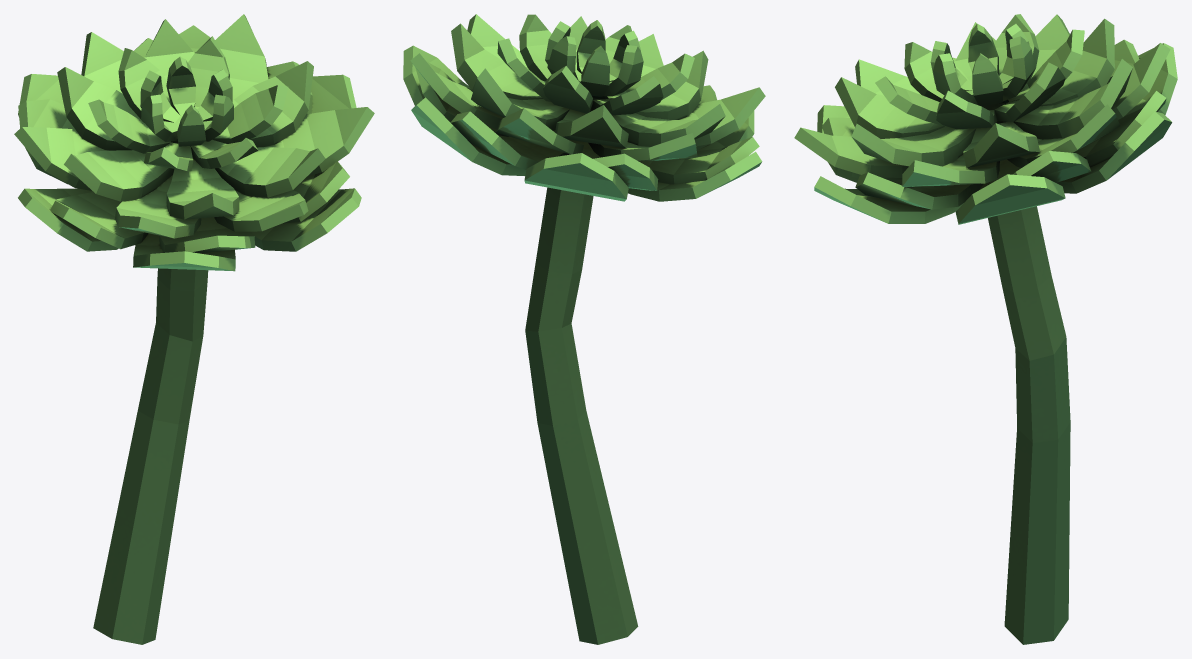
File: Aeonium_plant.glb
The picture shows the model from 3 angles, left to right: view 1: azimuth 30°, elevation 25°; view 2: azimuth 150°, elevation 25°; view 3: azimuth 270°, elevation 25°; orthographic projection. The views are drawn at different scales.
Parts seen in each view (by area): view 1: aeonium_plant; view 2: aeonium_plant; view 3: aeonium_plant.
Boxes of the visible parts, x1,y1,x2,y2 form: aeonium_plant: (14, 14, 374, 644); aeonium_plant: (403, 14, 765, 644); aeonium_plant: (794, 14, 1177, 644).
Bounding box in the file's own units: 1.2 × 1.95 × 1.09.
Materials: 1 (1 with a texture image).
